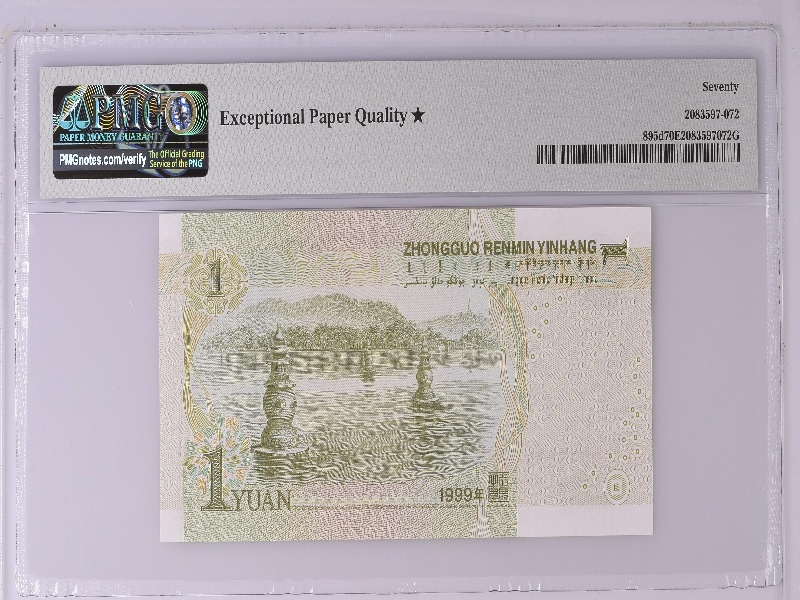papernote: (156, 204, 655, 540)
